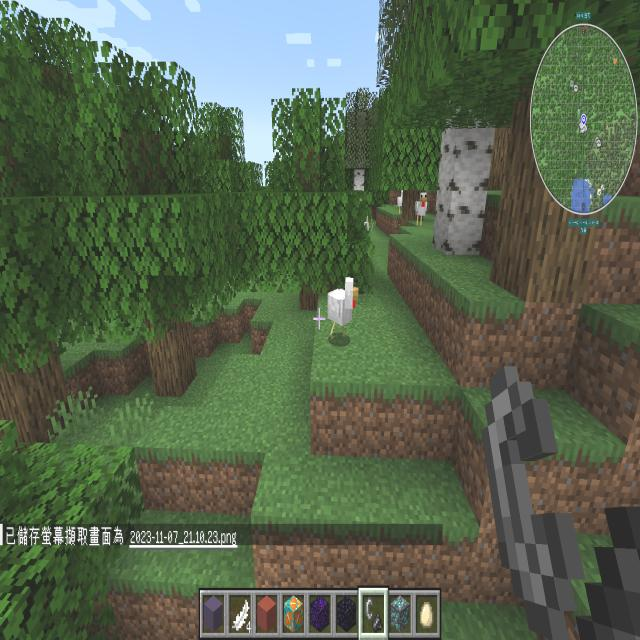chicken: (327, 276, 360, 341), (414, 190, 429, 228), (394, 188, 406, 212)
